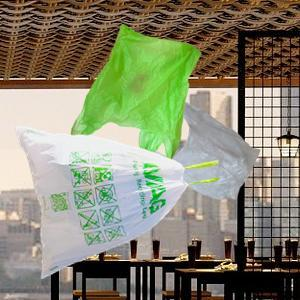plastic_bag: (65, 22, 203, 160), (170, 100, 262, 204)
